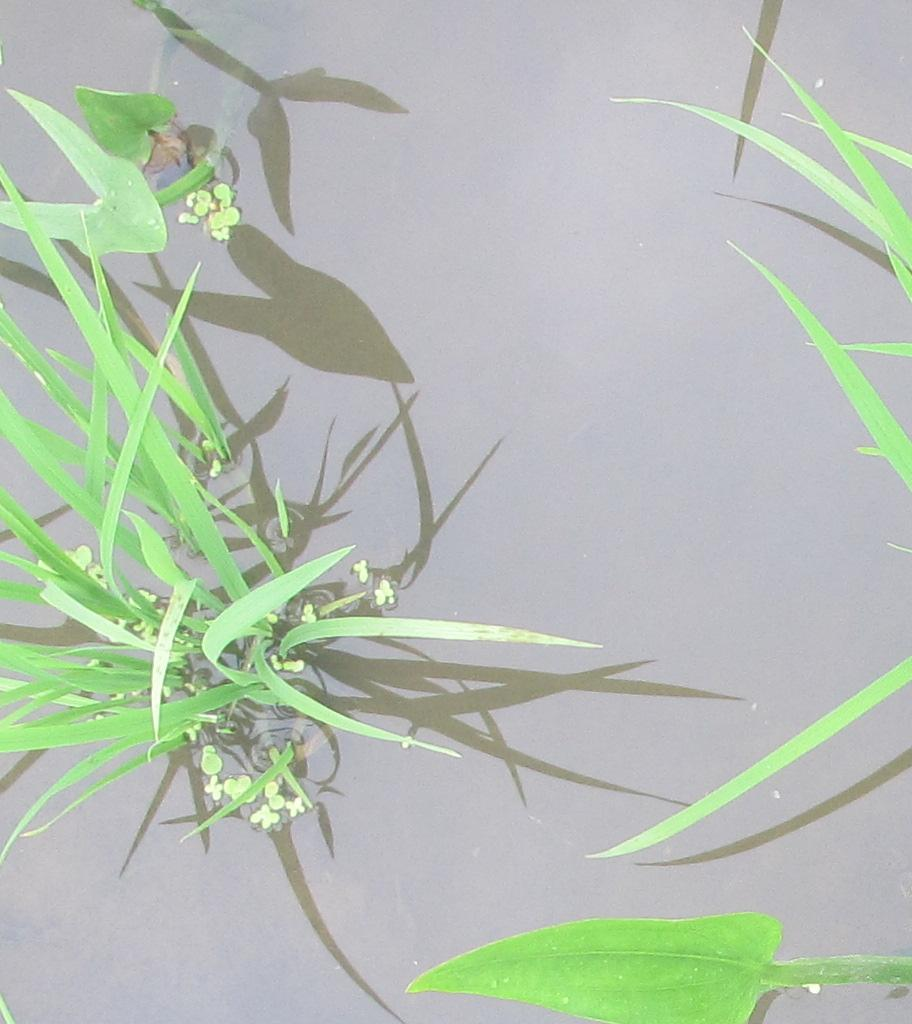Weed: (392, 903, 800, 1021), (7, 78, 247, 272)
